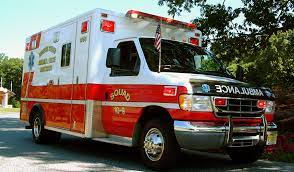special: (19, 7, 278, 161)
